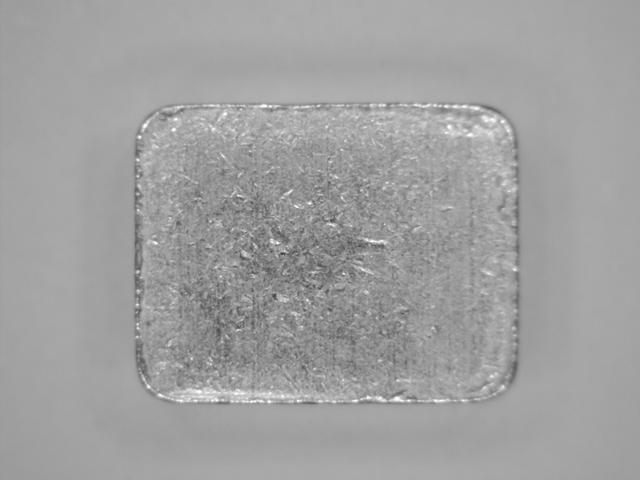ok: (127, 99, 522, 408)
